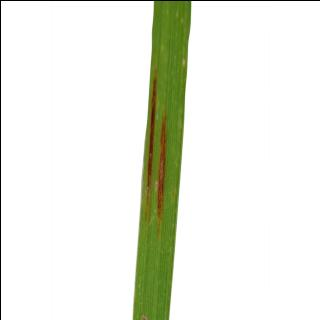Bercak-Cokelat-Sempit: (138, 61, 168, 229), (153, 108, 170, 222)
